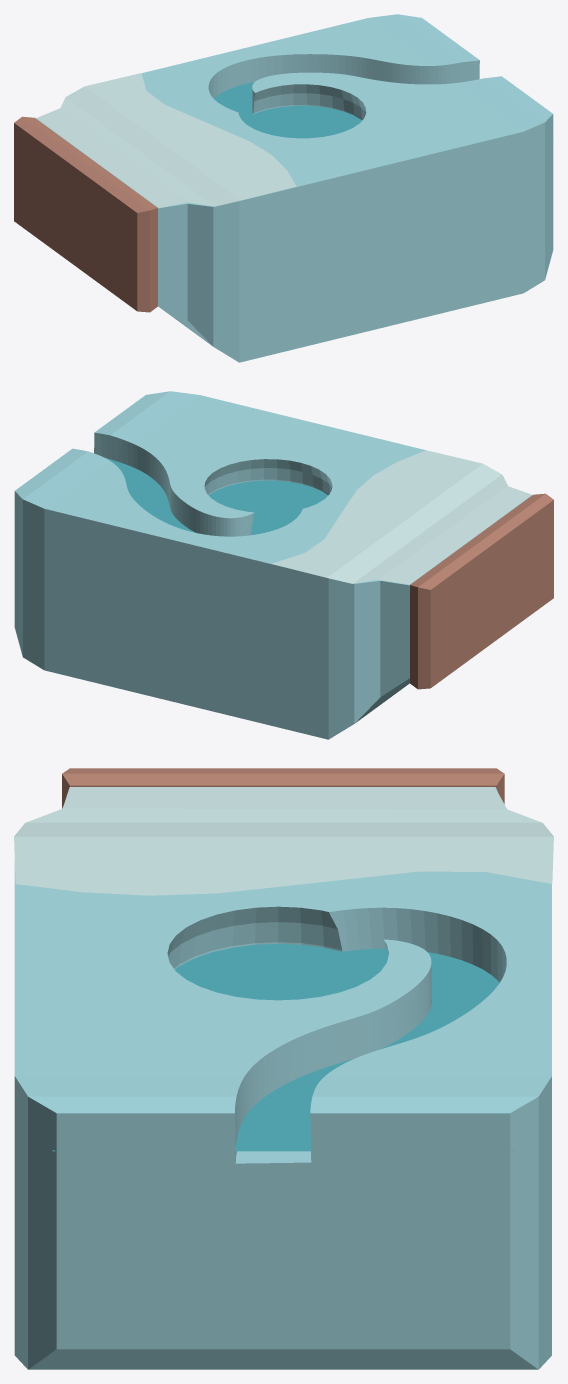
File: BankaMaze_0lvl.fbx
3 views of the same model, one above another, from view 1: azimuth 30°, elevation 25°; view 2: azimuth 150°, elevation 25°; view 3: azimuth 270°, elevation 25° (orthographic). The views are drawn at different scales.
Visible parts, largest first — view 1: Куб.001, Плоскость.001, Куб, Плоскость; view 2: Куб.001, Плоскость.001, Куб, Плоскость; view 3: Куб.001, Плоскость.001, Плоскость, Куб.
Part boxes in pixels (left/top/right/bottom): Куб.001: left=36, top=14, right=553, bottom=362; Плоскость.001: left=36, top=73, right=296, bottom=207; Куб: left=14, top=116, right=157, bottom=312; Плоскость: left=214, top=82, right=553, bottom=138; Куб.001: left=14, top=391, right=531, bottom=739; Плоскость.001: left=271, top=450, right=531, bottom=584; Куб: left=410, top=493, right=553, bottom=689; Плоскость: left=14, top=458, right=327, bottom=534; Куб.001: left=14, top=787, right=551, bottom=1369; Плоскость.001: left=14, top=787, right=553, bottom=895; Плоскость: left=52, top=943, right=513, bottom=1151; Куб: left=62, top=768, right=504, bottom=808.
Bounding box in the file's own units: 545 × 205 × 358.
